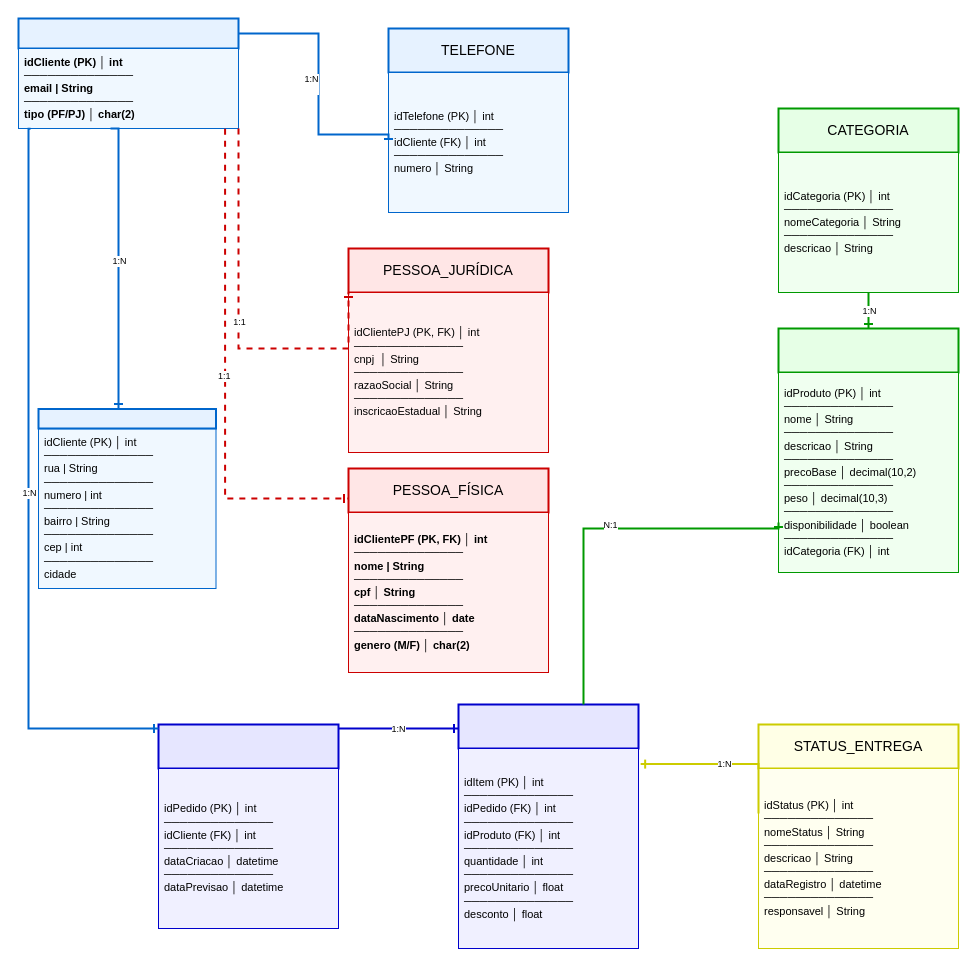
This 976x966 diagram has some shape labels left out. Each missing label, with the centre of its shape:
"CLIENTE" goes at (x=128, y=33).
"ENDERECO" goes at (x=126, y=418).
"ITEM_PEDIDO" goes at (x=548, y=726).
"PEDIDO" goes at (x=248, y=746).
"PRODUTO" goes at (x=868, y=350).
